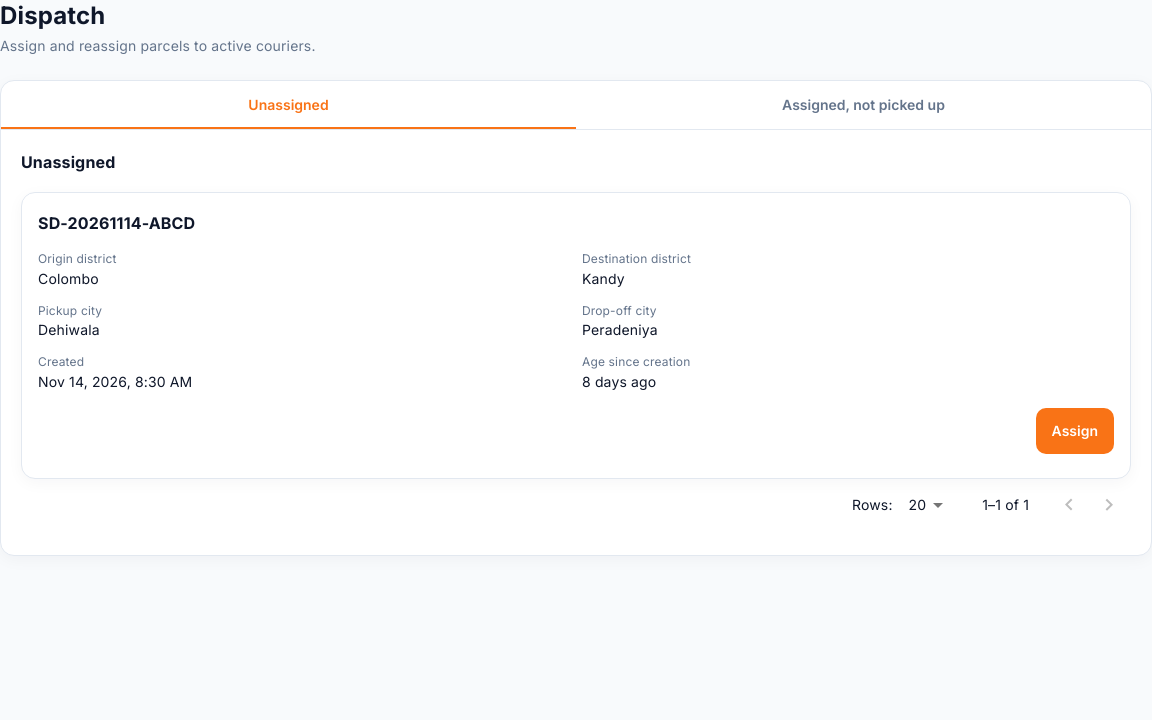
Scenario: TST-040 Member #7 dispatch queue › loads ACTIVE couriers with vehicle and workload details and requires confirmation before assignment
The width and height of the screenshot is (1152, 720).
Click the button "Assign". click: (1075, 431)
box: [1036, 408, 1114, 454]
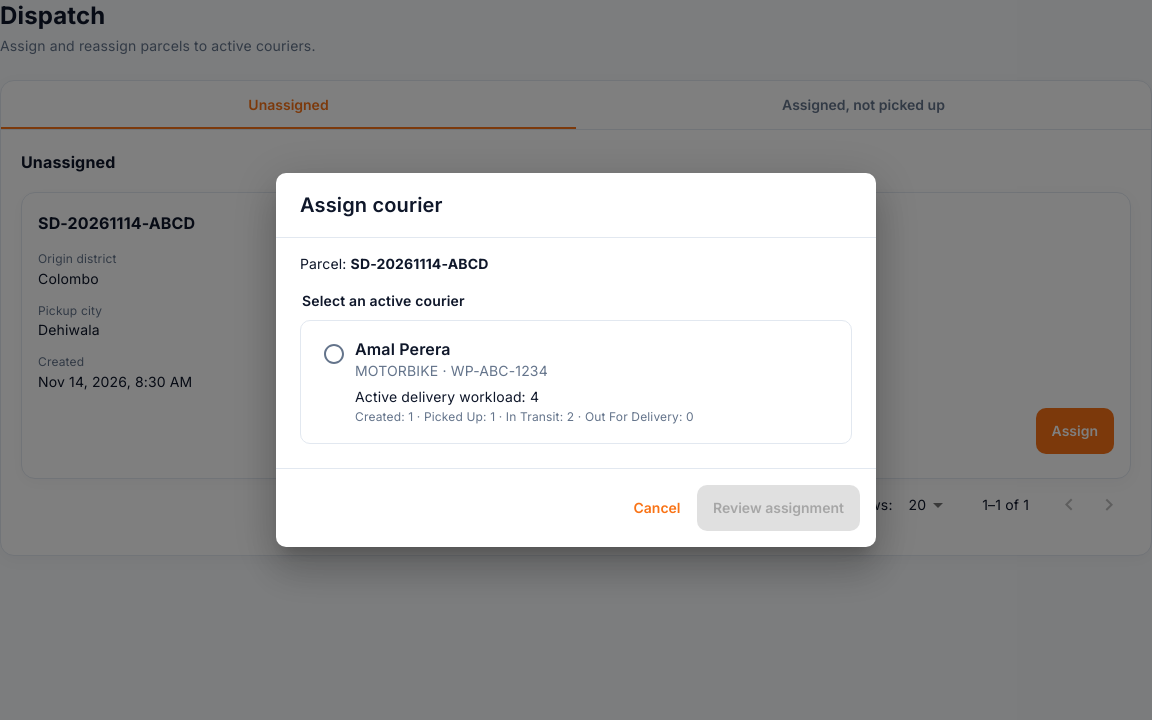
Expected: the radio button labelled "Amal Perera" is shown
Expected: the text "Amal Perera" is shown, [355, 339, 451, 359]
Expected: the text "MOTORBIKE · WP-ABC-1234" is shown, [355, 362, 548, 379]
Click the radio button labelled "Amal Perera". click: (508, 382)
box: [322, 339, 694, 424]
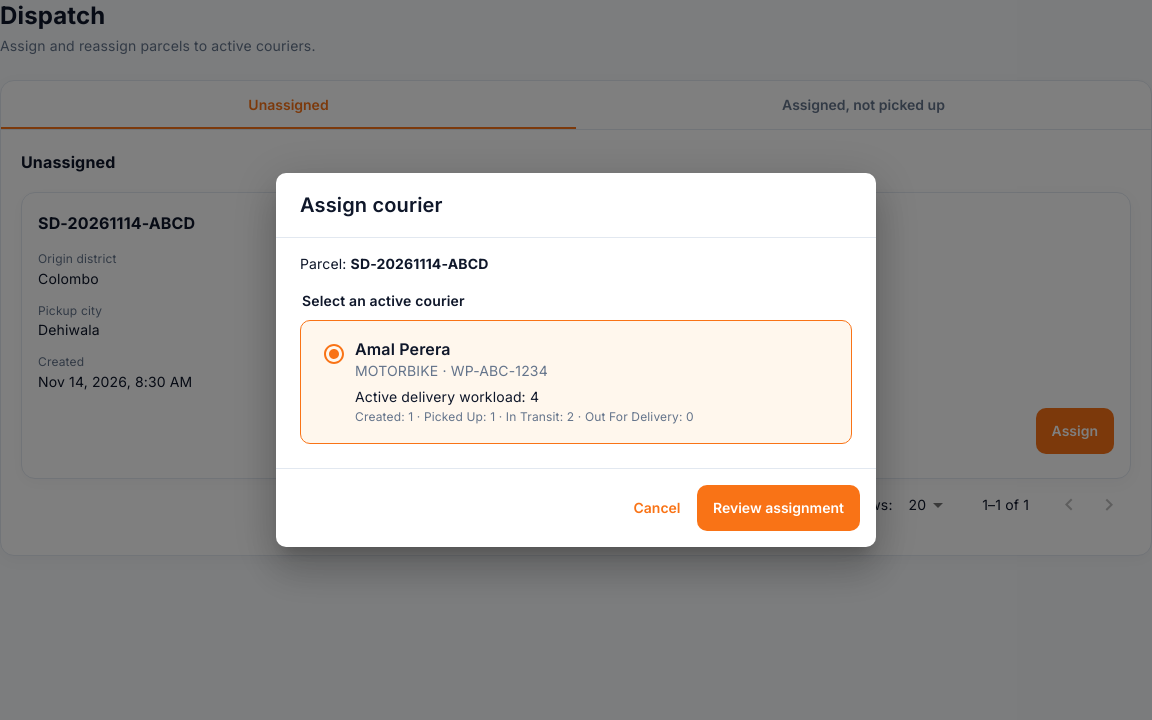
Click the button "Review assignment". click: (778, 508)
box: [697, 485, 860, 531]
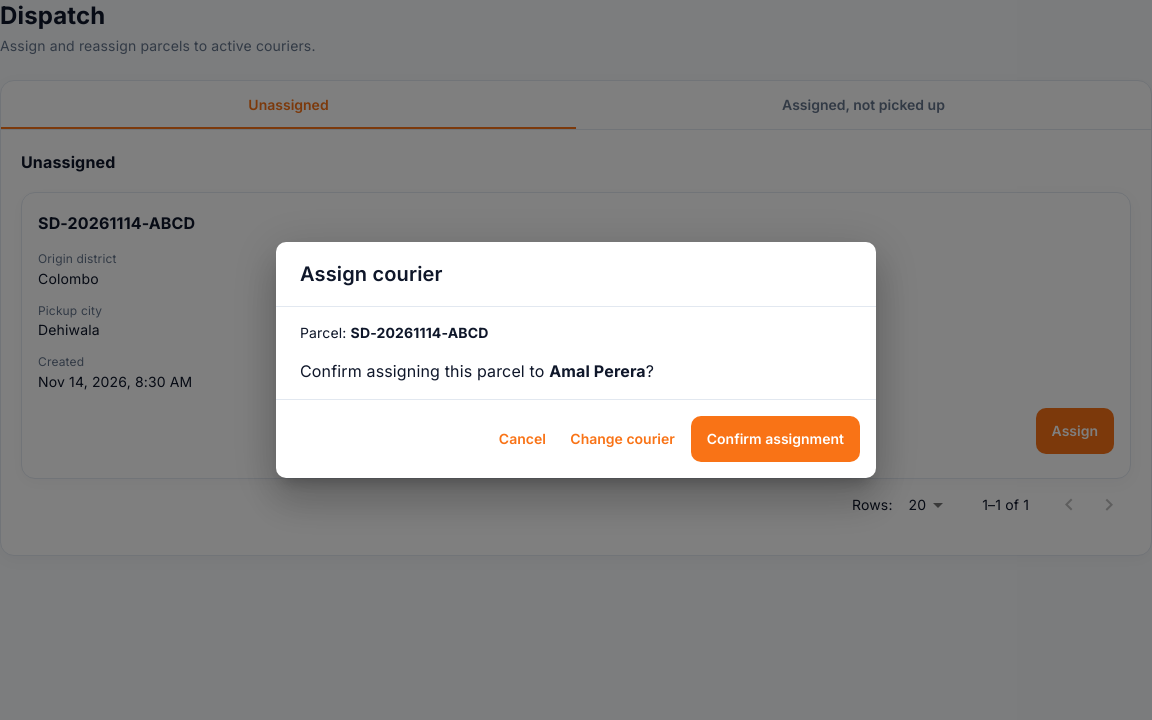
Expected: the text "Amal Perera" is shown, [549, 361, 646, 381]
Expected: the text "Confirm assigning this parcel to Amal Perera?" is shown, [300, 361, 654, 381]
Expected: the button "Confirm assignment" is enabled, [691, 416, 860, 462]
